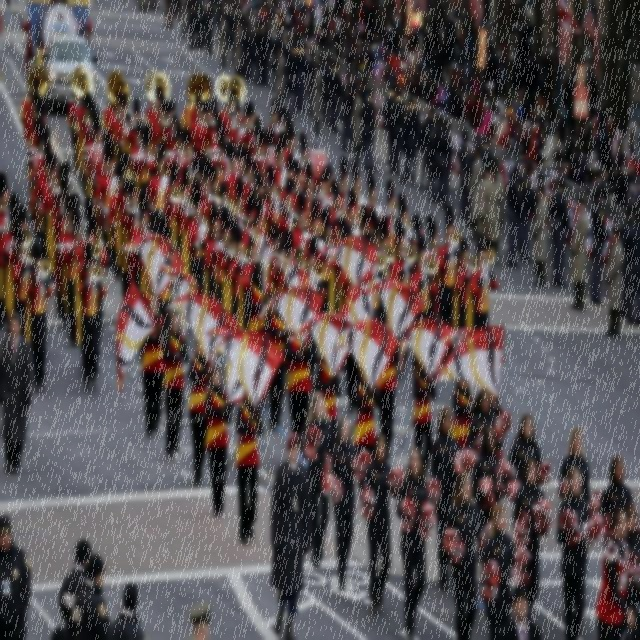pessoa: (0, 82, 282, 351), (558, 424, 640, 639), (357, 168, 436, 380), (548, 50, 640, 218), (477, 0, 550, 175), (308, 142, 358, 352), (266, 431, 314, 638), (266, 349, 358, 442), (441, 468, 490, 638), (394, 444, 436, 639), (350, 0, 428, 104), (360, 430, 402, 620), (282, 106, 310, 352), (300, 390, 338, 570), (511, 455, 551, 625), (426, 0, 478, 129), (556, 462, 592, 638), (429, 404, 462, 593), (0, 310, 34, 476), (594, 504, 635, 638), (330, 414, 360, 593), (481, 501, 518, 639), (203, 364, 235, 518), (235, 387, 264, 546), (160, 308, 190, 460), (136, 0, 217, 55), (0, 512, 34, 639), (470, 424, 510, 531), (140, 292, 168, 440), (323, 0, 351, 144), (77, 258, 106, 392), (26, 255, 54, 392), (71, 552, 112, 639), (187, 336, 210, 488), (598, 454, 634, 551), (58, 536, 92, 632), (504, 412, 548, 486), (412, 360, 438, 482), (615, 502, 638, 639), (355, 367, 376, 511), (376, 314, 398, 451), (478, 156, 505, 266), (548, 175, 572, 289), (436, 223, 461, 331), (464, 386, 506, 450), (104, 580, 148, 639), (286, 0, 310, 108), (603, 222, 625, 339), (244, 0, 275, 83), (497, 583, 542, 639), (587, 182, 607, 308), (470, 247, 500, 329), (568, 192, 588, 313), (397, 94, 422, 188), (504, 158, 524, 270), (530, 180, 550, 289), (245, 260, 275, 332), (621, 210, 639, 328), (386, 86, 408, 178), (619, 201, 636, 319), (518, 158, 536, 266), (450, 377, 474, 449), (436, 116, 454, 211), (417, 104, 436, 194), (456, 236, 474, 330), (467, 144, 484, 243), (359, 88, 377, 172), (184, 595, 214, 639), (217, 0, 244, 47), (456, 126, 469, 221), (382, 82, 396, 166), (349, 88, 364, 165), (310, 56, 323, 136), (274, 46, 287, 118), (530, 168, 548, 218), (309, 0, 324, 59), (462, 149, 473, 227), (412, 233, 431, 278), (230, 18, 244, 78), (216, 12, 228, 70), (273, 0, 287, 46), (515, 174, 522, 262), (421, 129, 436, 170), (50, 624, 70, 639), (473, 129, 478, 160)
